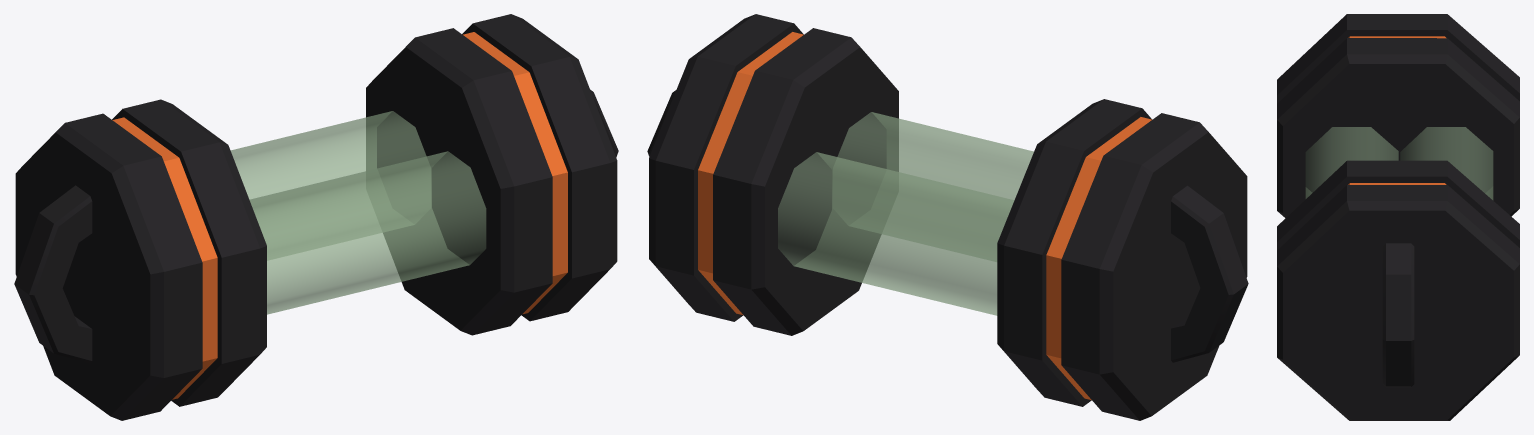
The model's file is Medkit_Small.fbx.
3 views of the same model, side by side, from view 1: azimuth 30°, elevation 25°; view 2: azimuth 150°, elevation 25°; view 3: azimuth 270°, elevation 25° (orthographic). The views are drawn at different scales.
Visible parts, largest first — view 1: Medkit_Small; view 2: Medkit_Small; view 3: Medkit_Small.
Boxes of the visible parts, x1,y1,x2,y2 form: Medkit_Small: [14, 14, 618, 420]; Medkit_Small: [647, 14, 1248, 420]; Medkit_Small: [1277, 14, 1519, 420].
Bounding box in the file's own units: 119 × 49.48 × 49.48.
